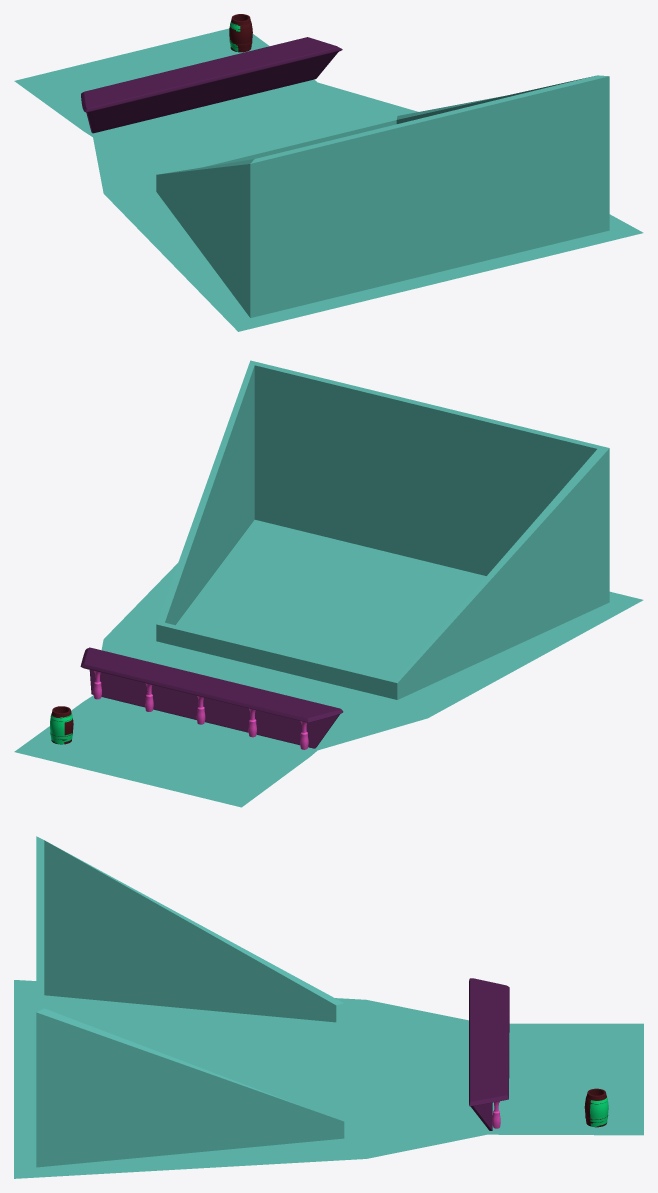
File: room_mat.glb
3 renders of one model, top to bottom at view 1: azimuth 30°, elevation 25°; view 2: azimuth 150°, elevation 25°; view 3: azimuth 270°, elevation 25°, orthographic.
Parts seen in each view (by area): view 1: Plane, Cube, Cylinder; view 2: Plane, Cube, Cube.001, Cylinder; view 3: Plane, Cube, Cylinder.
Boxes of the visible parts, x1,y1,x2,y2 form: Plane: [14, 28, 643, 331]; Cube: [81, 37, 342, 133]; Cylinder: [229, 14, 252, 52]; Plane: [14, 360, 643, 807]; Cube: [80, 647, 343, 748]; Cube.001: [93, 671, 308, 749]; Cylinder: [50, 706, 73, 744]; Plane: [14, 836, 643, 1178]; Cube: [469, 978, 509, 1130]; Cylinder: [584, 1088, 608, 1127].
Bounding box in the file's own units: 89.53 × 32.54 × 120.
